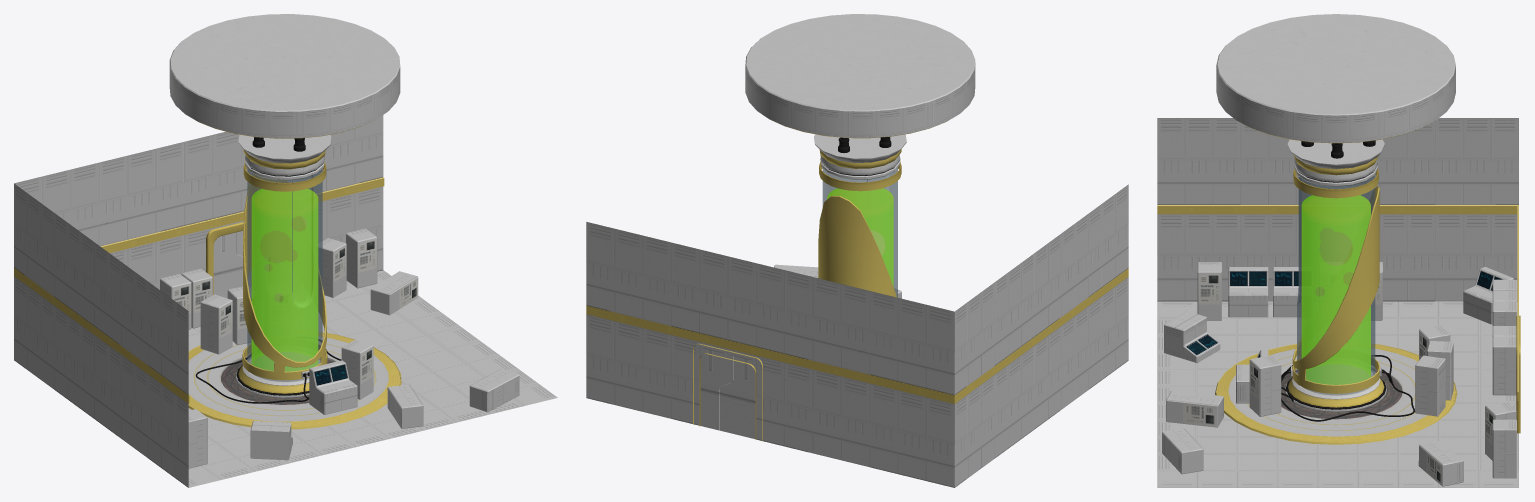
3 renders of one model, left to right at view 1: azimuth 30°, elevation 25°; view 2: azimuth 150°, elevation 25°; view 3: azimuth 270°, elevation 25°, orthographic. The views are drawn at different scales.
Visible parts, largest first — view 1: Wall, Top wiring, Floor, Glass container, Liquid, Botttom base, Metal brace, Top closure, Terminal, Main frame.008, Main frame.011, Lower glass holder (+14 smaller); view 2: Wall, Top wiring, Metal brace, Glass container, Top closure, Door panel 1, Liquid, Door panel 2, Metal ring, Door Frame; view 3: Wall, Floor, Top wiring, Glass container, Liquid, Botttom base, Metal brace, Top closure, Lower glass holder, Terminal.004, Terminal.002, Main frame (+19 smaller).
Part boxes in pixels (<box>): Wall: <box>14,115,384,487</box>; Top wiring: <box>169,14,400,138</box>; Floor: <box>188,270,557,487</box>; Glass container: <box>247,168,322,381</box>; Liquid: <box>251,189,318,371</box>; Botttom base: <box>188,332,401,429</box>; Metal brace: <box>242,174,327,380</box>; Top closure: <box>238,134,331,180</box>; Terminal: <box>309,360,357,414</box>; Main frame.008: <box>200,294,232,354</box>; Main frame.011: <box>346,228,377,288</box>; Lower glass holder: <box>236,352,320,395</box>; Wall: <box>586,184,1128,487</box>; Top wiring: <box>745,14,975,138</box>; Metal brace: <box>818,196,896,297</box>; Glass container: <box>822,168,897,297</box>; Top closure: <box>814,134,906,179</box>; Door panel 1: <box>719,356,756,438</box>; Liquid: <box>827,188,893,286</box>; Door panel 2: <box>700,348,733,430</box>; Metal ring: <box>819,161,901,191</box>; Door Frame: <box>693,343,762,441</box>; Wall: <box>1157,118,1518,400</box>; Floor: <box>1157,301,1518,487</box>; Top wiring: <box>1216,14,1455,143</box>; Glass container: <box>1297,175,1375,394</box>; Liquid: <box>1301,195,1370,384</box>; Botttom base: <box>1215,344,1457,444</box>; Metal brace: <box>1292,186,1380,393</box>; Top closure: <box>1287,139,1384,186</box>; Lower glass holder: <box>1286,364,1386,409</box>; Terminal.004: <box>1164,311,1220,362</box>; Terminal.002: <box>1228,267,1268,317</box>; Main frame: <box>1249,355,1281,416</box>.
Bounding box in the file's own units: 14.67 × 12.07 × 12.06.
4 materials, 4 textured.
